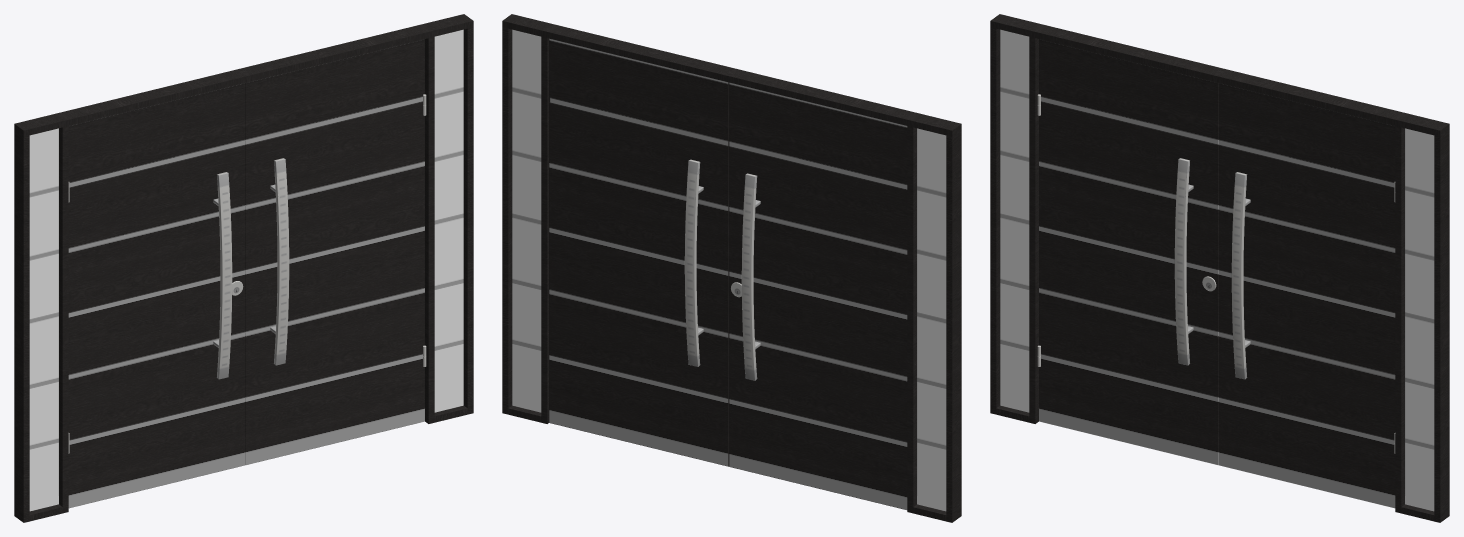
Rendered from DoorDouble02.FBX.
The picture shows the model from 3 angles, left to right: view 1: azimuth 30°, elevation 25°; view 2: azimuth 150°, elevation 25°; view 3: azimuth 330°, elevation 25°; orthographic projection.
Parts seen in each view (by area): view 1: DoorR, DoorL, Frame; view 2: DoorR, DoorL, Frame; view 3: DoorL, DoorR, Frame.
Part boxes in pixels (<box>): DoorR: <box>245,39,426,465</box>; DoorL: <box>68,83,244,508</box>; Frame: <box>14,14,473,522</box>; DoorR: <box>549,38,728,466</box>; DoorL: <box>729,82,907,509</box>; Frame: <box>502,14,961,522</box>; DoorL: <box>1037,39,1218,465</box>; DoorR: <box>1219,83,1395,508</box>; Frame: <box>990,14,1449,522</box>.
Bounding box in the file's own units: 300 × 250 × 29.78.
